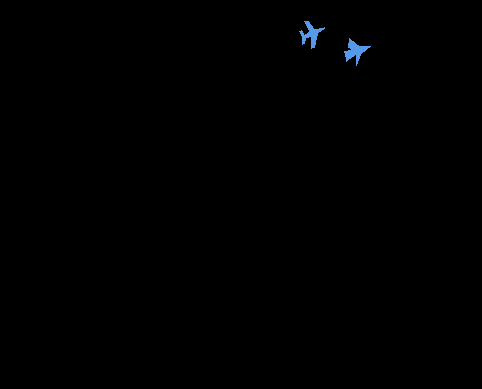Airplane: (344, 38, 371, 65), (299, 21, 325, 49)
